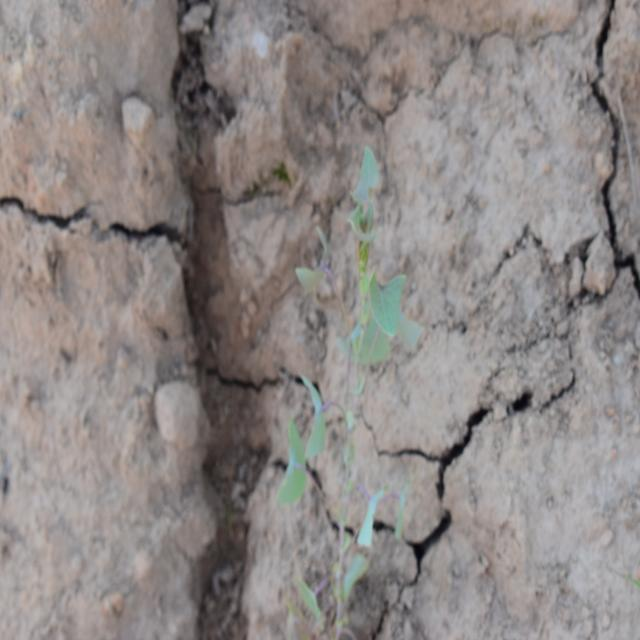Asiatic_Smartweed: (278, 170, 406, 522)
